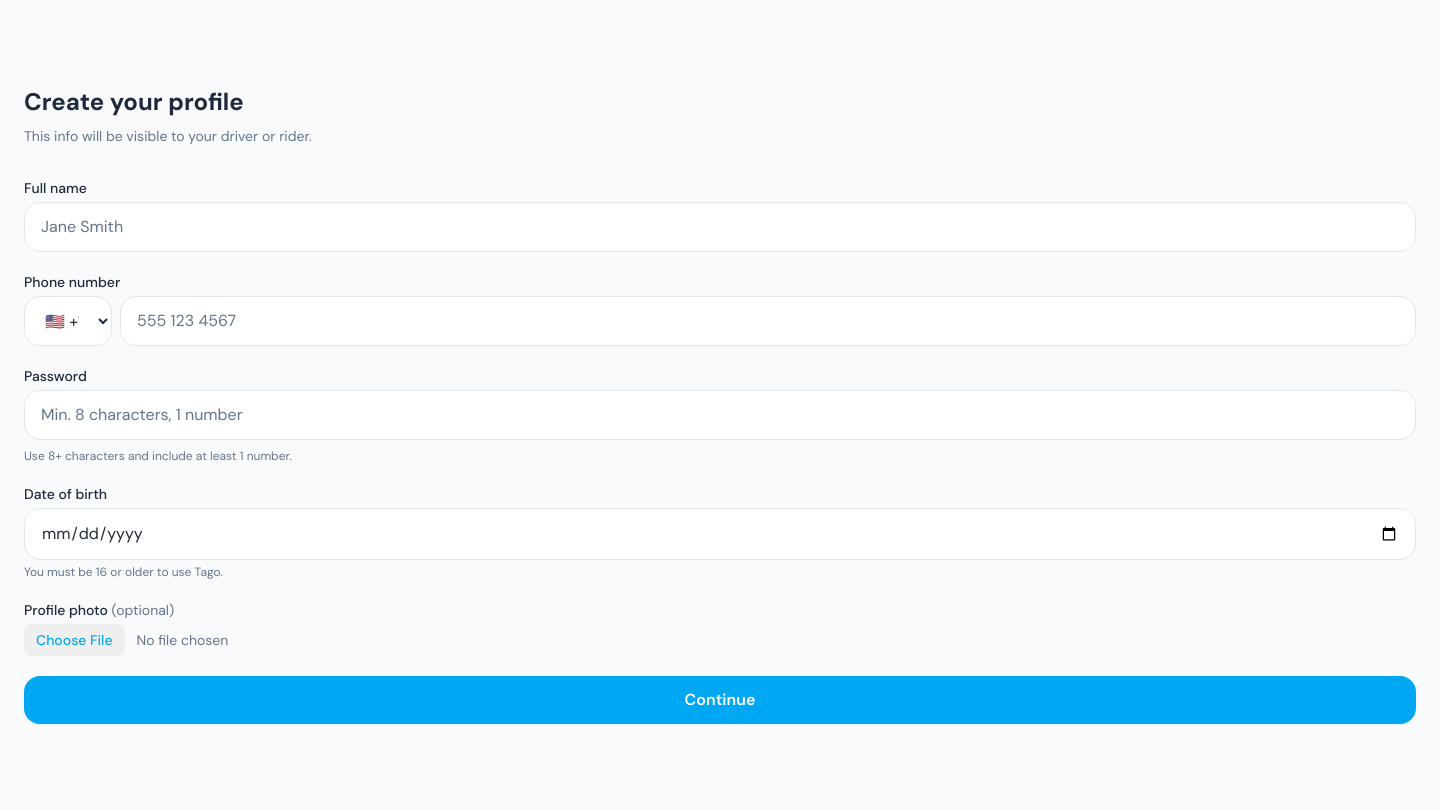
Scenario: full name validation — in component › shows error when full name is empty on submit
In the field with test id "phone-input": [768, 321] box [120,296,1416,346], type "5551234567"
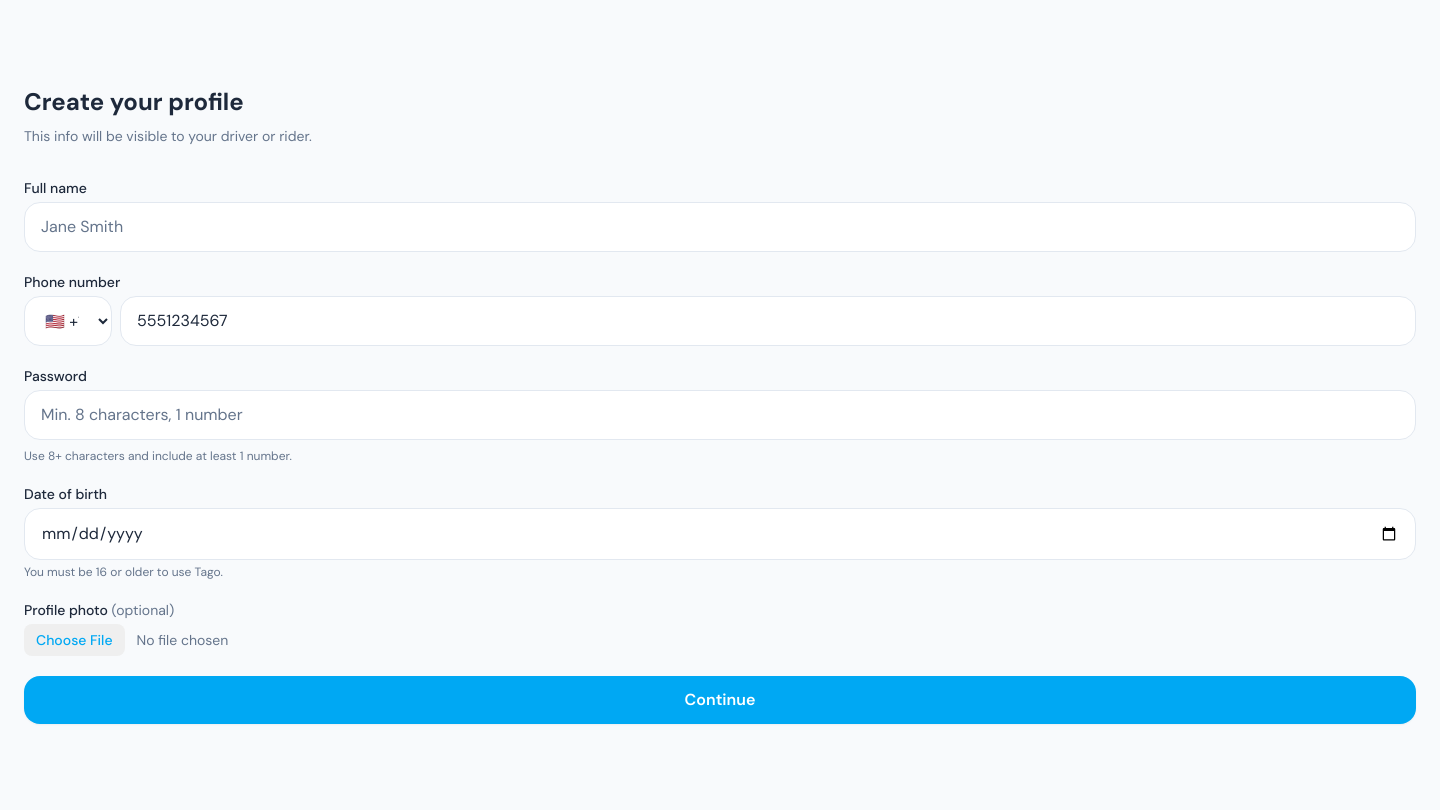
In the password field with test id "password-input": [720, 415] box [24,390,1416,440], type "Password1"
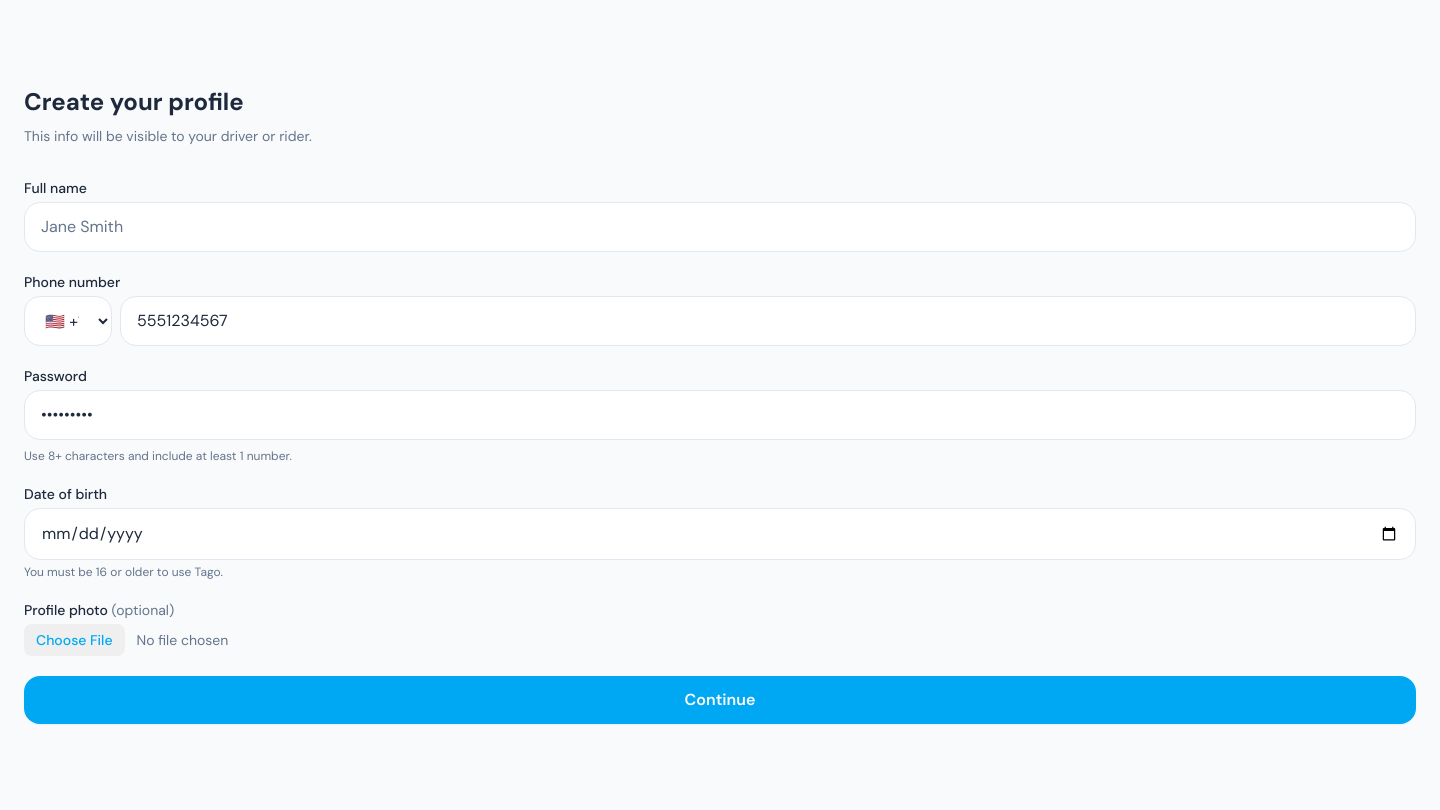
In the date field with test id "dob-input": [720, 534] box [24,508,1416,560], type "2000-01-15"
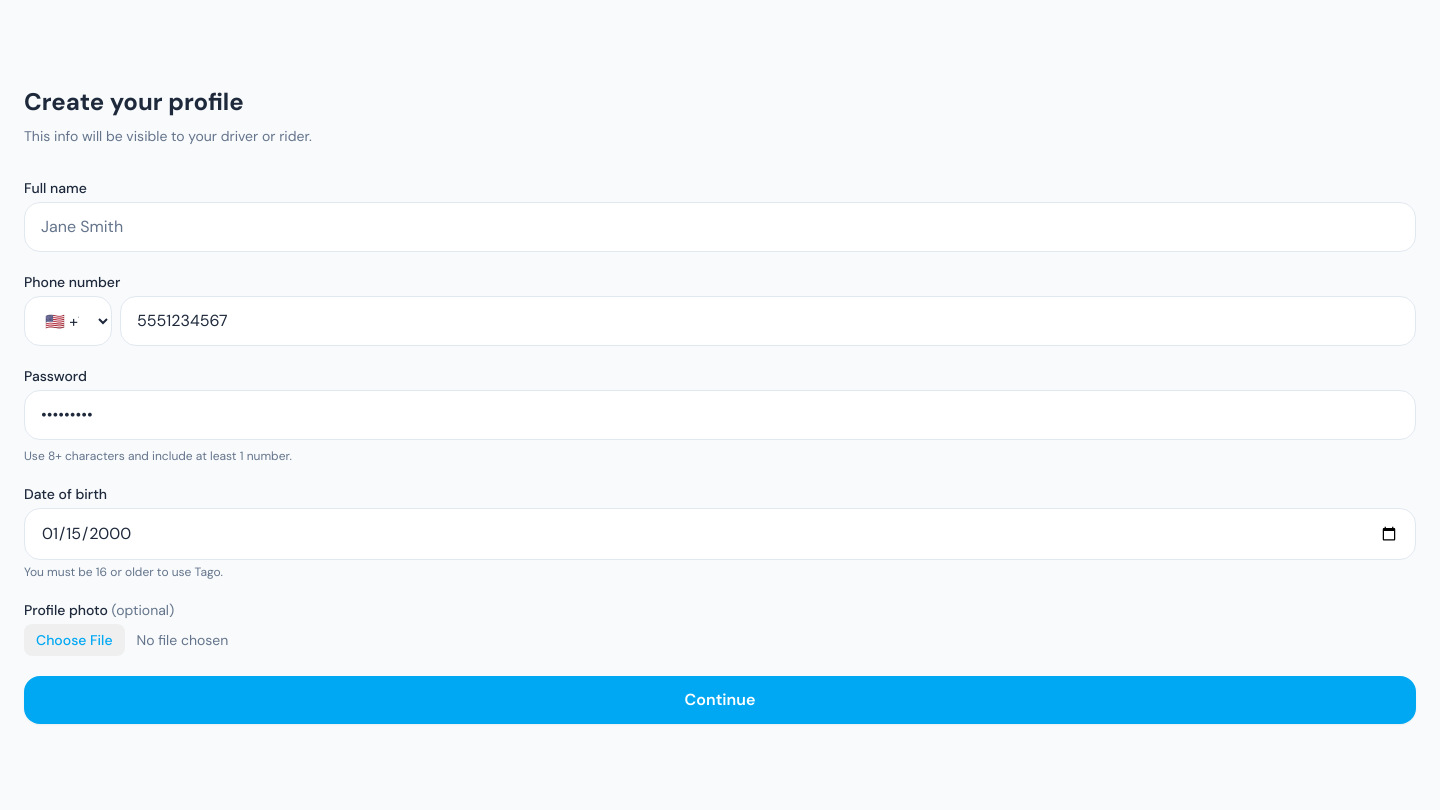
Click the button with test id "submit-button": [720, 700] box [24,676,1416,724]
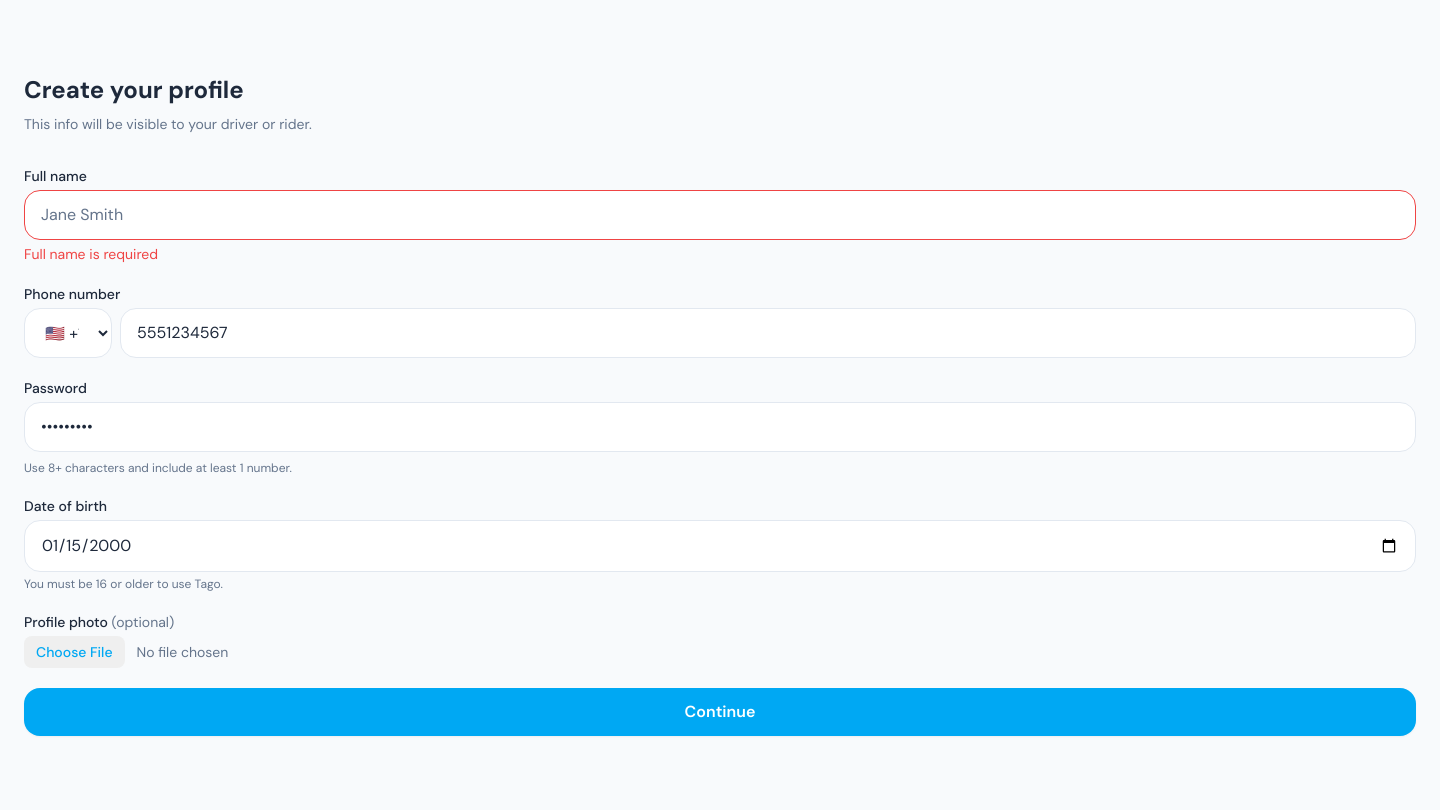
Expected: the text "Full name is required" is shown, [24,245,158,263]
